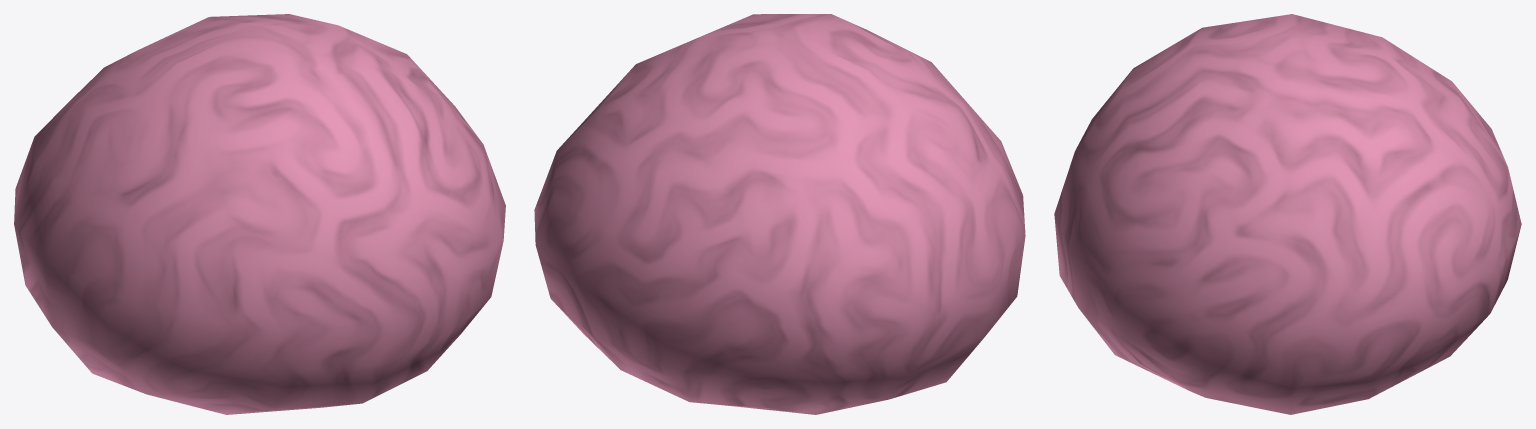
File: coral15_FBX_still.fbx
The picture shows the model from 3 angles, left to right: view 1: azimuth 30°, elevation 25°; view 2: azimuth 150°, elevation 25°; view 3: azimuth 270°, elevation 25°; orthographic projection. The views are drawn at different scales.
Visible parts, largest first — view 1: coral15_gameasset; view 2: coral15_gameasset; view 3: coral15_gameasset.
Boxes of the visible parts, box(x1,y1,x2,y2) form: coral15_gameasset: box(14, 14, 505, 414); coral15_gameasset: box(534, 14, 1025, 414); coral15_gameasset: box(1054, 14, 1521, 414).
Size of the model in its own units: 1.23 by 0.9581 by 1.21.
1 material, 1 textured.
